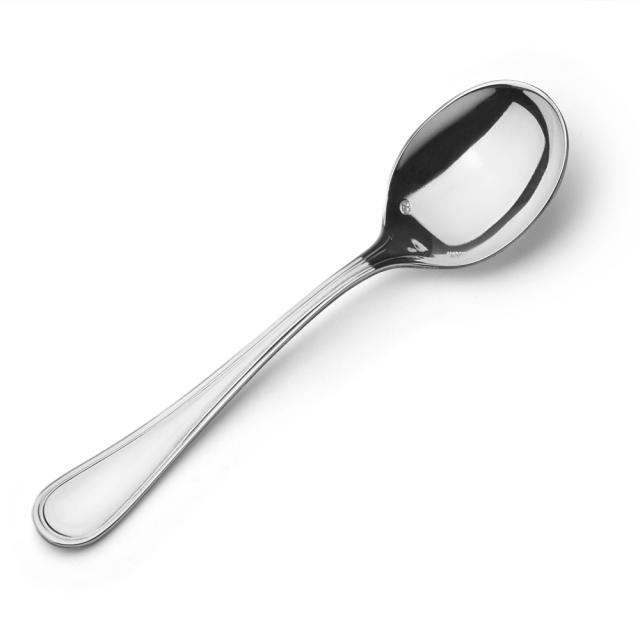spoon: (20, 67, 577, 561)
